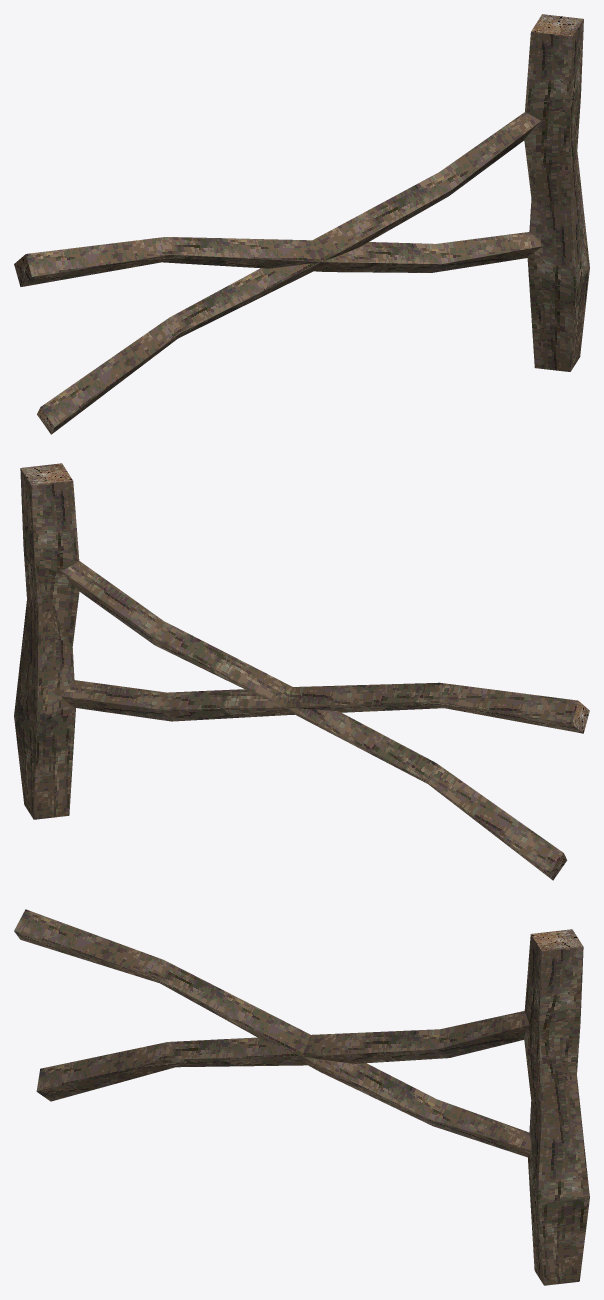
File: wooden_fence_oen_crossed.glb
3 renders of one model, top to bottom at view 1: azimuth 30°, elevation 25°; view 2: azimuth 150°, elevation 25°; view 3: azimuth 330°, elevation 25°, orthographic.
Parts seen in each view (by area): view 1: wooden_fence_oen_crossed; view 2: wooden_fence_oen_crossed; view 3: wooden_fence_oen_crossed.
Part boxes in pixels (x1,y1,x2,y2): wooden_fence_oen_crossed: [14, 14, 589, 434]; wooden_fence_oen_crossed: [14, 463, 589, 880]; wooden_fence_oen_crossed: [14, 909, 589, 1285].
Size of the model in its own units: 2.12 by 1.2 by 0.237.
1 material, 1 textured.
